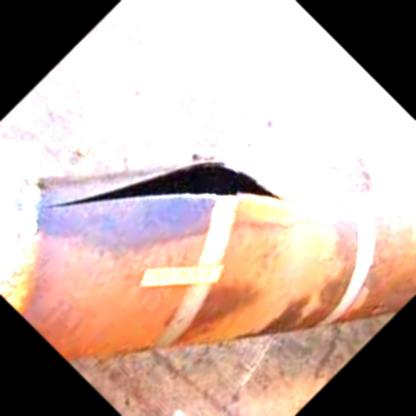burst: (44, 161, 299, 237)
